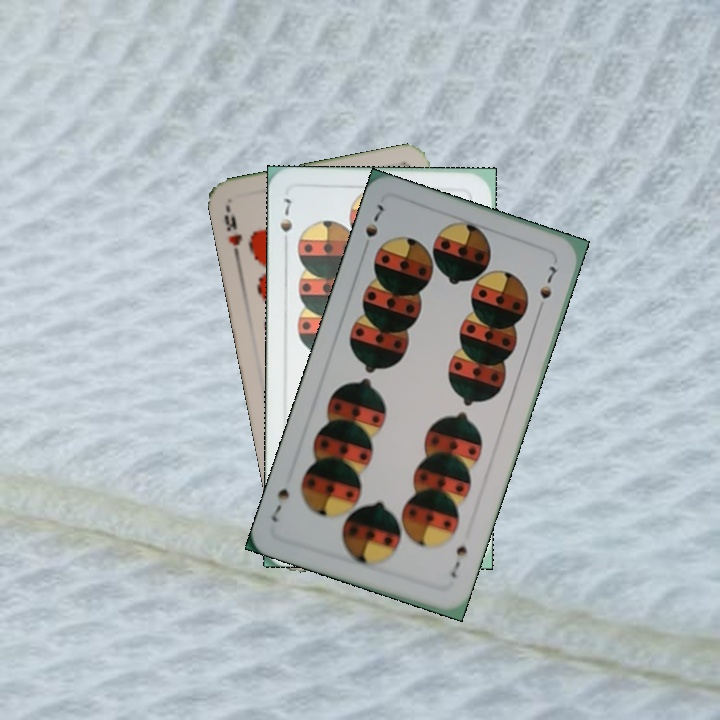H9: (220, 211, 245, 262)
S7: (358, 200, 387, 255), (446, 541, 470, 581), (276, 194, 295, 234)
